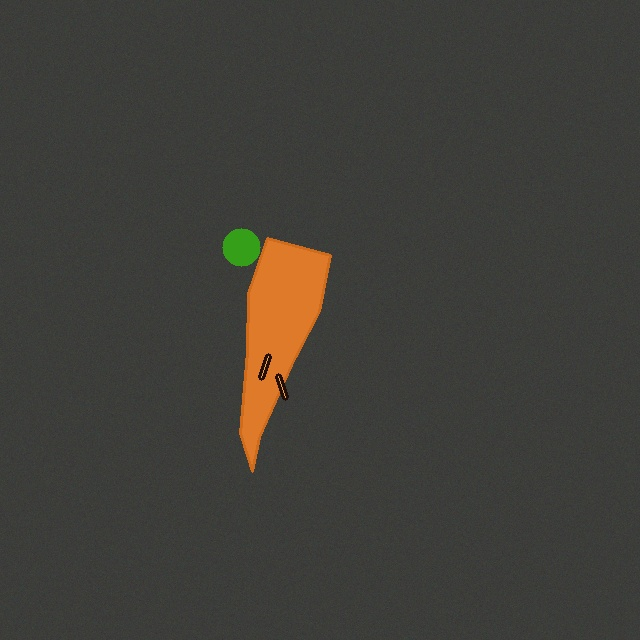Damaged_Carrot: (232, 230, 338, 479)
